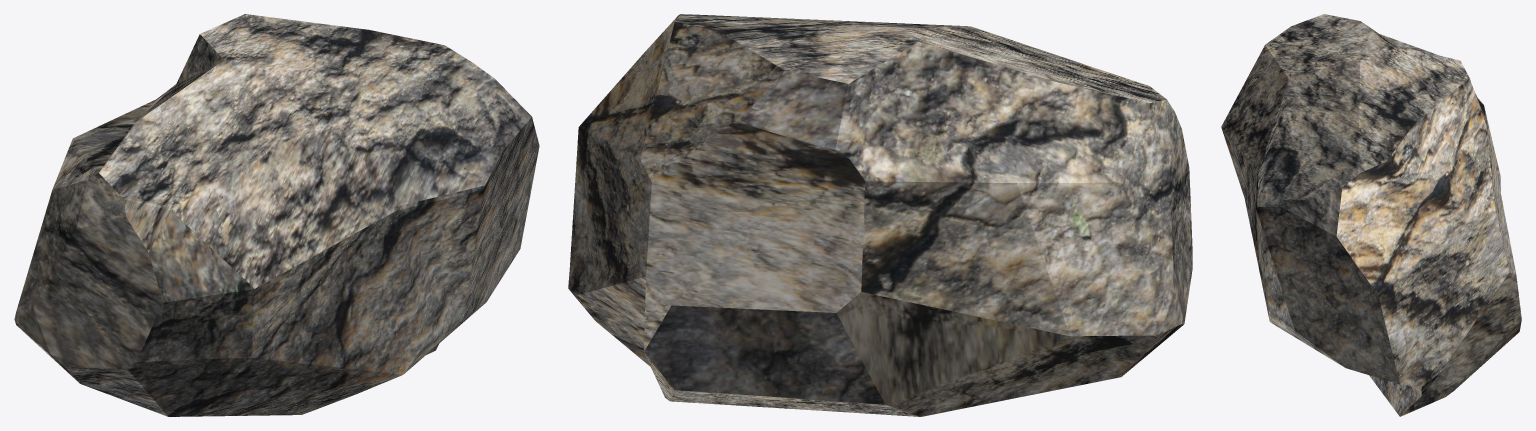
Rendered from pedraMenorII.fbx.
3 renders of one model, left to right at view 1: azimuth 30°, elevation 25°; view 2: azimuth 150°, elevation 25°; view 3: azimuth 270°, elevation 25°, orthographic. The views are drawn at different scales.
Parts seen in each view (by area): view 1: Cube; view 2: Cube; view 3: Cube.
Boxes of the visible parts, x1=… form: Cube: x1=14, y1=14, x2=539, y2=416; Cube: x1=568, y1=14, x2=1192, y2=416; Cube: x1=1221, y1=14, x2=1521, y2=416.
Bounding box in the file's own units: 175 × 269 × 164.
1 material, 1 textured.
